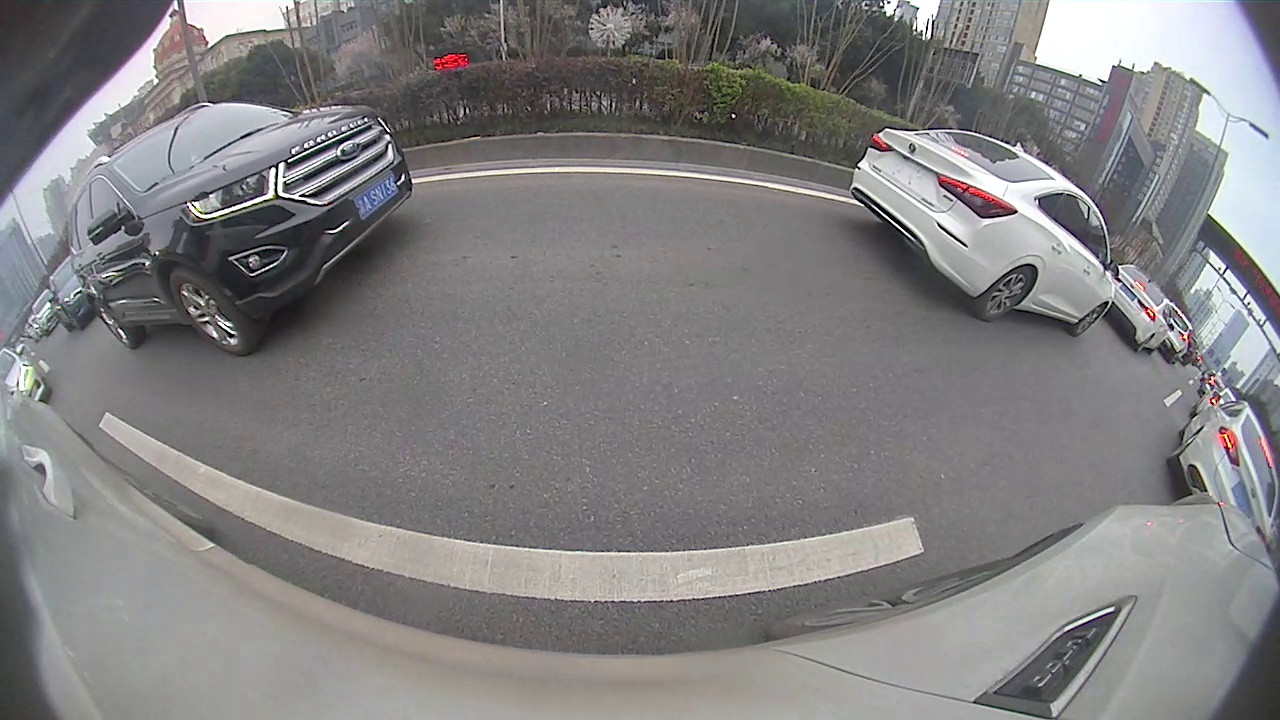car: (59, 98, 417, 358), (848, 125, 1121, 341), (1166, 395, 1279, 544), (1109, 261, 1175, 353), (41, 256, 100, 334)
front: (171, 271, 256, 358), (1070, 301, 1106, 337)
rear: (976, 264, 1037, 324), (94, 298, 136, 349)
